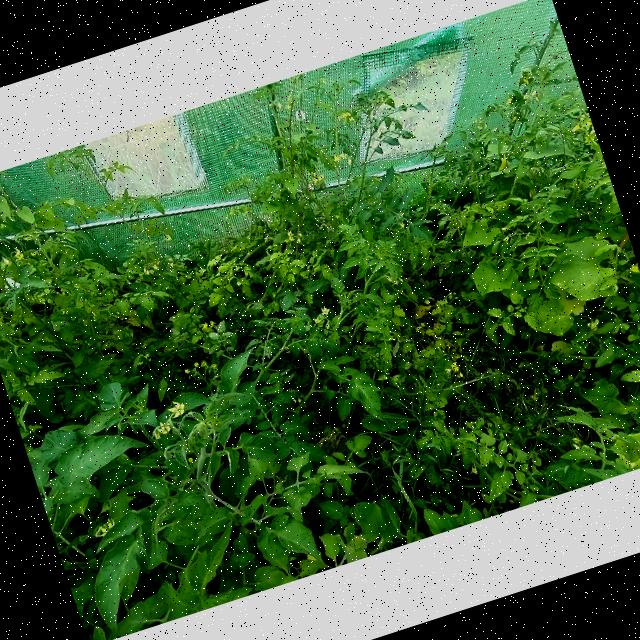Flowers: (150, 420, 174, 440), (94, 518, 118, 537), (166, 398, 187, 418), (308, 168, 326, 184), (12, 246, 26, 262), (344, 112, 356, 124), (0, 255, 11, 268), (630, 262, 640, 275), (338, 150, 351, 160), (502, 233, 516, 242), (572, 436, 584, 446), (450, 361, 460, 372), (393, 276, 404, 286), (456, 370, 466, 380), (320, 306, 330, 316), (469, 466, 478, 476), (288, 231, 296, 242), (142, 266, 150, 276), (152, 262, 160, 272), (167, 258, 175, 268), (346, 158, 356, 166), (208, 319, 216, 328), (313, 316, 321, 324), (201, 322, 209, 330), (210, 362, 218, 370), (183, 366, 191, 374), (164, 234, 172, 242), (502, 225, 511, 232), (333, 154, 340, 162), (443, 368, 451, 374), (276, 102, 282, 110), (136, 360, 145, 365), (193, 362, 200, 368), (385, 276, 392, 282), (201, 361, 207, 367), (286, 105, 292, 111), (296, 238, 302, 244), (284, 238, 290, 244)
